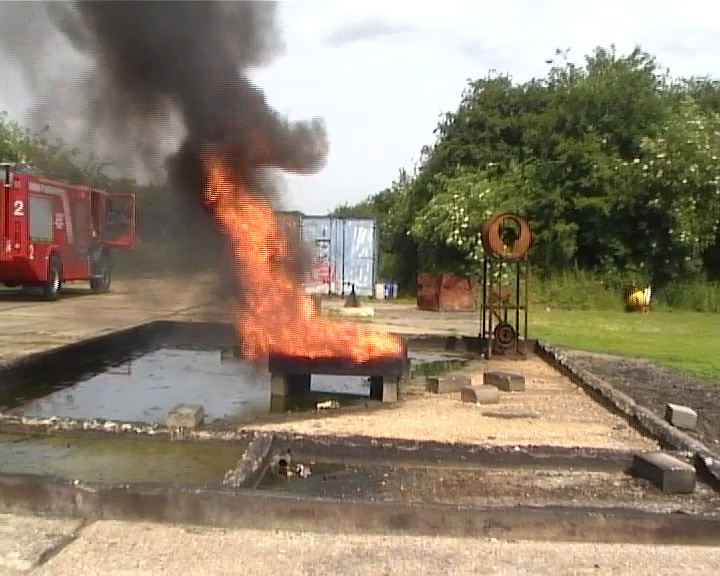fire: (209, 175, 399, 357)
